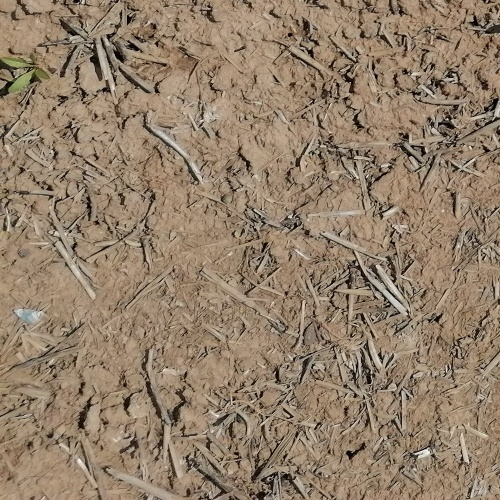beet: (0, 48, 49, 94)
